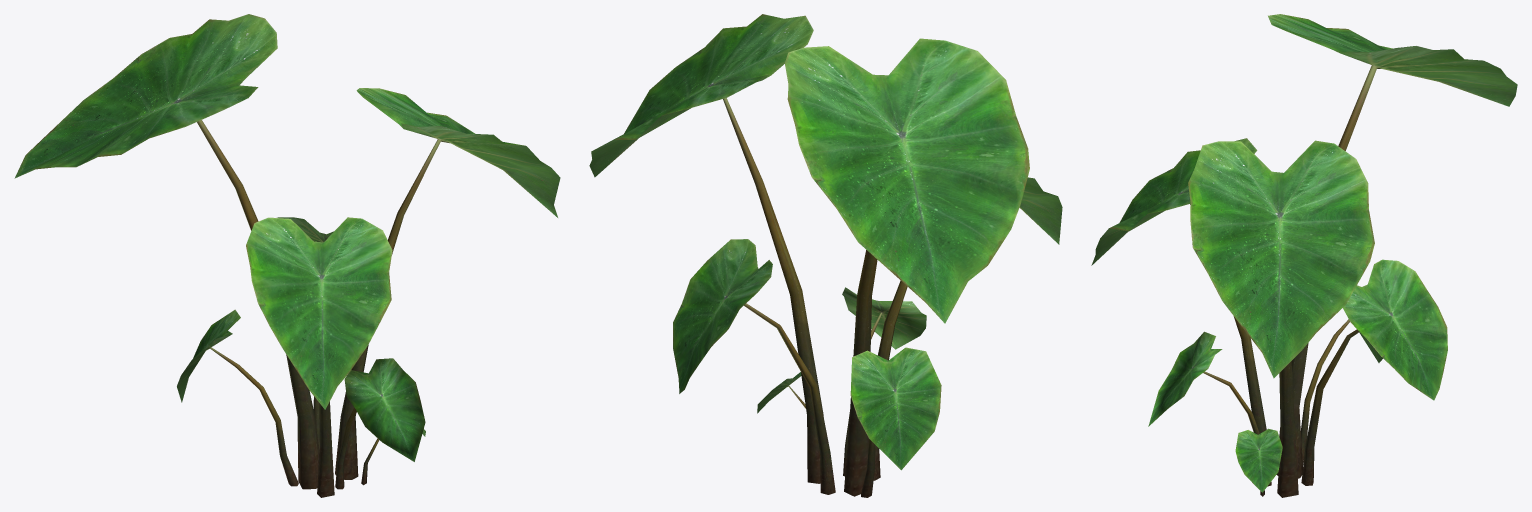
The model's file is Colocasia.FBX.
3 renders of one model, left to right at view 1: azimuth 30°, elevation 25°; view 2: azimuth 150°, elevation 25°; view 3: azimuth 270°, elevation 25°, orthographic. The views are drawn at different scales.
Parts seen in each view (by area): view 1: Colocasia011, Colocasia017, Colocasia016, Colocasia010, Colocasia013, Colocasia018; view 2: Colocasia011, Colocasia016, Colocasia018, Colocasia013, Colocasia017, Colocasia010; view 3: Colocasia016, Colocasia018, Colocasia011, Colocasia017, Colocasia010, Colocasia015, Colocasia013.
Part boxes in pixels (x1=…): Colocasia011: x1=14, y1=14, x2=319, y2=489; Colocasia017: x1=246, y1=217, x2=392, y2=497; Colocasia016: x1=335, y1=88, x2=560, y2=479; Colocasia010: x1=335, y1=358, x2=425, y2=489; Colocasia013: x1=177, y1=309, x2=298, y2=486; Colocasia018: x1=277, y1=217, x2=333, y2=452; Colocasia011: x1=785, y1=38, x2=1029, y2=496; Colocasia016: x1=589, y1=14, x2=823, y2=483; Colocasia018: x1=673, y1=239, x2=835, y2=494; Colocasia013: x1=850, y1=347, x2=941, y2=497; Colocasia017: x1=873, y1=177, x2=1062, y2=480; Colocasia010: x1=842, y1=287, x2=926, y2=476; Colocasia016: x1=1188, y1=140, x2=1374, y2=497; Colocasia018: x1=1301, y1=259, x2=1447, y2=485; Colocasia011: x1=1268, y1=14, x2=1517, y2=478; Colocasia017: x1=1091, y1=138, x2=1266, y2=433; Colocasia010: x1=1148, y1=331, x2=1271, y2=486; Colocasia015: x1=1235, y1=428, x2=1282, y2=496; Colocasia013: x1=1300, y1=319, x2=1382, y2=465.
Size of the model in its own units: 130 by 122 by 109.
